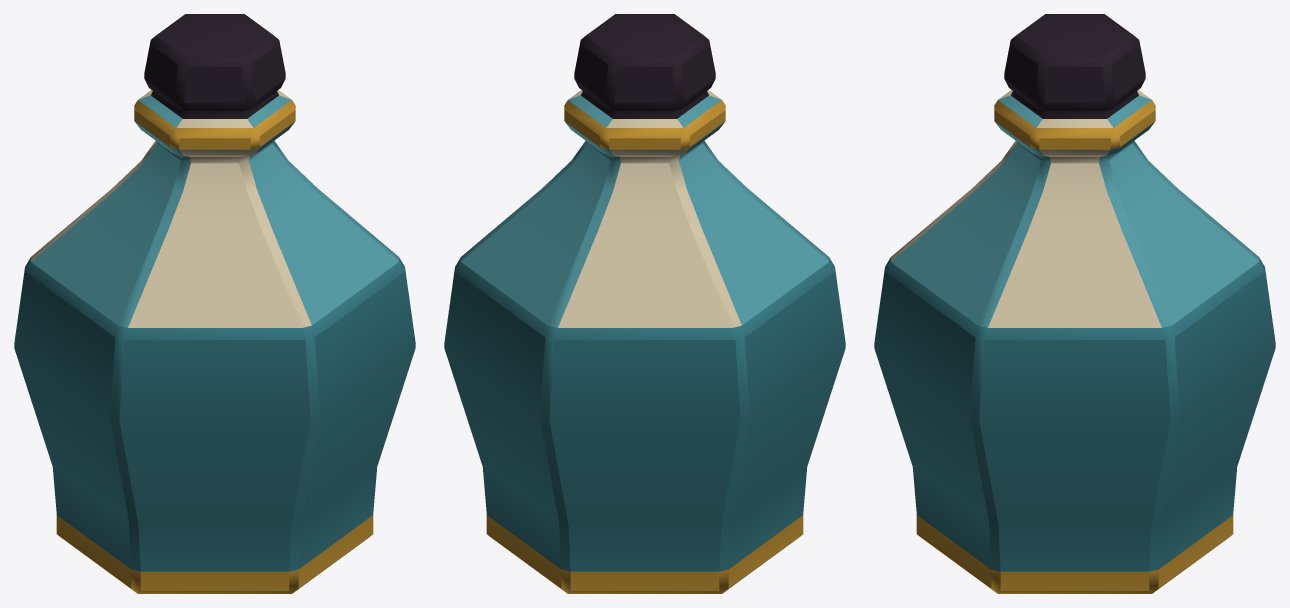
Rendered from Bottle_09.glb.
3 views of the same model, side by side, from view 1: azimuth 30°, elevation 25°; view 2: azimuth 150°, elevation 25°; view 3: azimuth 270°, elevation 25° (orthographic).
Parts seen in each view (by area): view 1: Bottle_09; view 2: Bottle_09; view 3: Bottle_09.
Part boxes in pixels (bbox=[...]): Bottle_09: bbox=[14, 14, 415, 593]; Bottle_09: bbox=[444, 14, 845, 593]; Bottle_09: bbox=[874, 14, 1275, 593].
Size of the model in its own units: 1.42 by 2.26 by 1.61.
